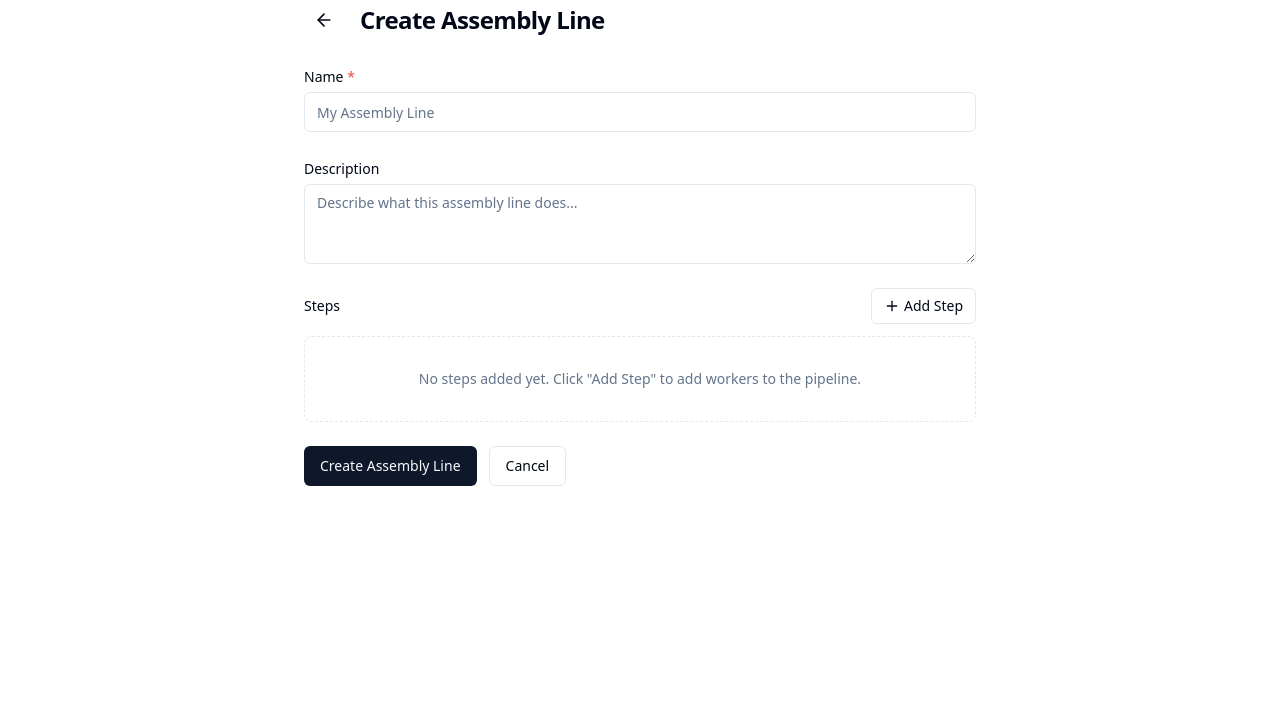
Test case: AssemblyLineCreatePage › Form validation › clears steps error when a step is added
Type "My Line" into the field labelled "Name *" at (640, 112), box top-left (304, 92), bottom-right (976, 132)
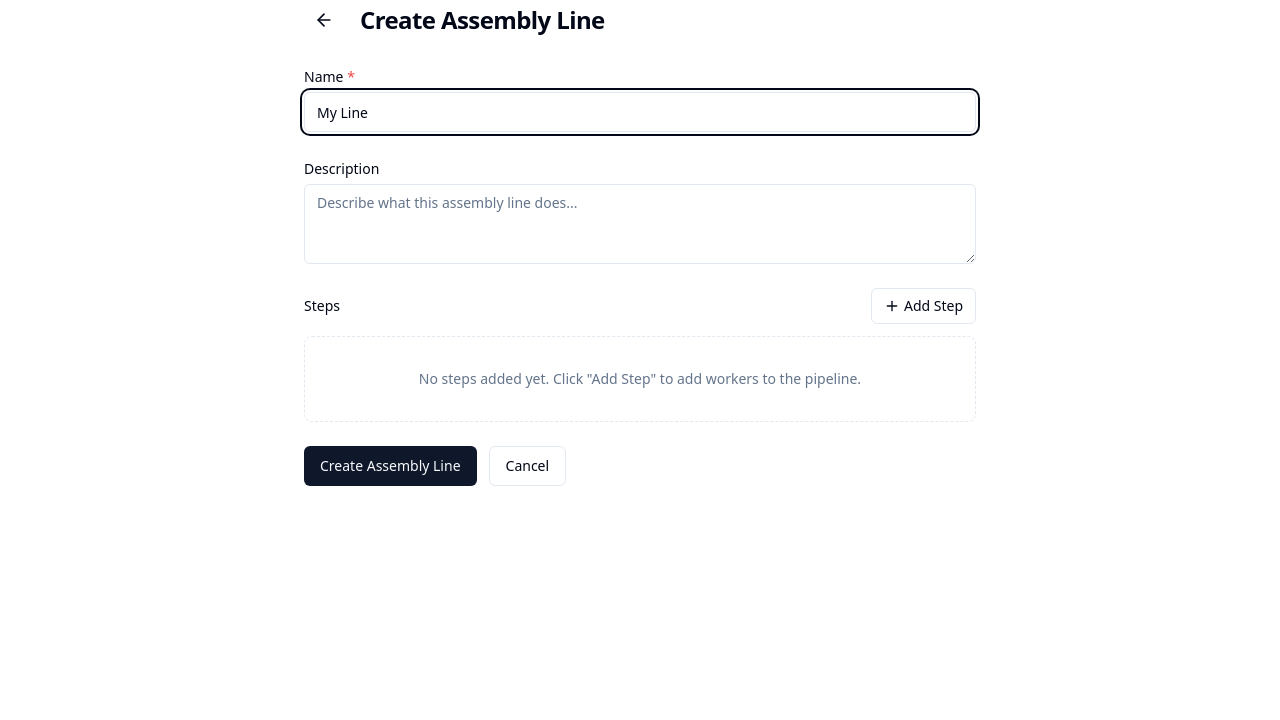
Click the button "Create Assembly Line" at (390, 466), box top-left (304, 446), bottom-right (476, 486)
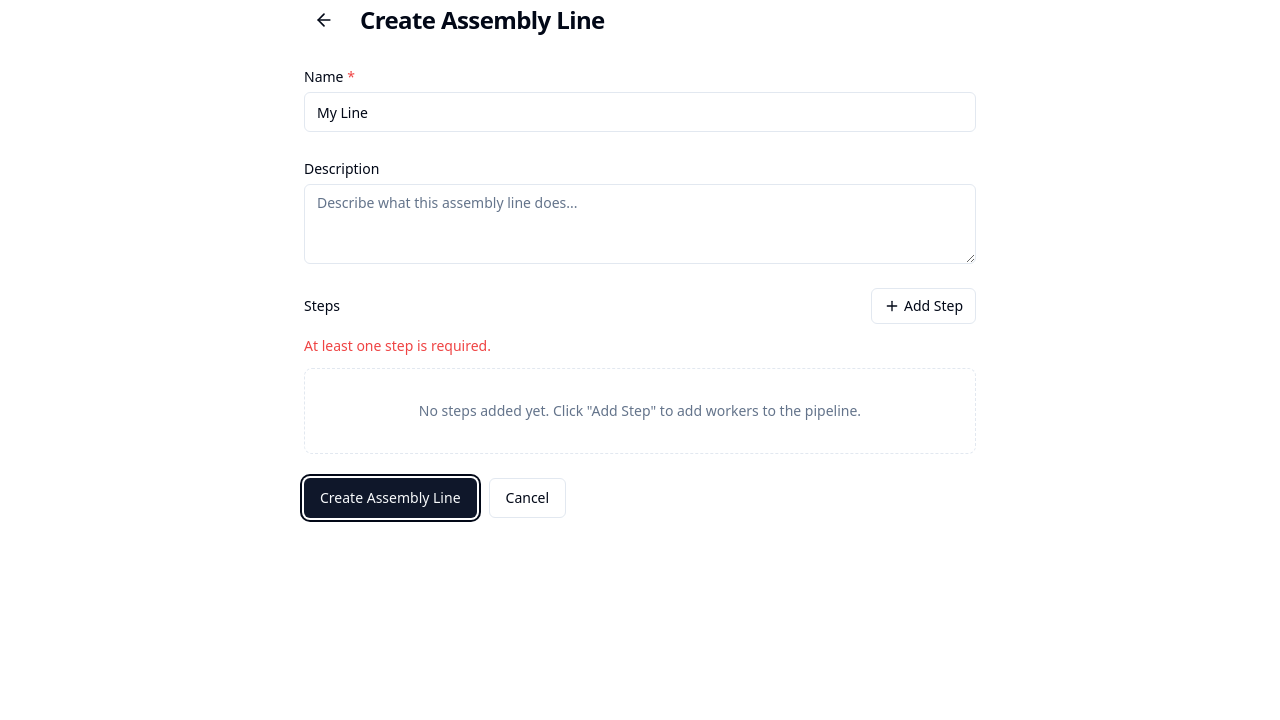
Expected: the text "At least one step is required." is shown, top-left (304, 336), bottom-right (491, 355)
Click the button "Add Step" at (923, 306), box top-left (871, 288), bottom-right (976, 324)
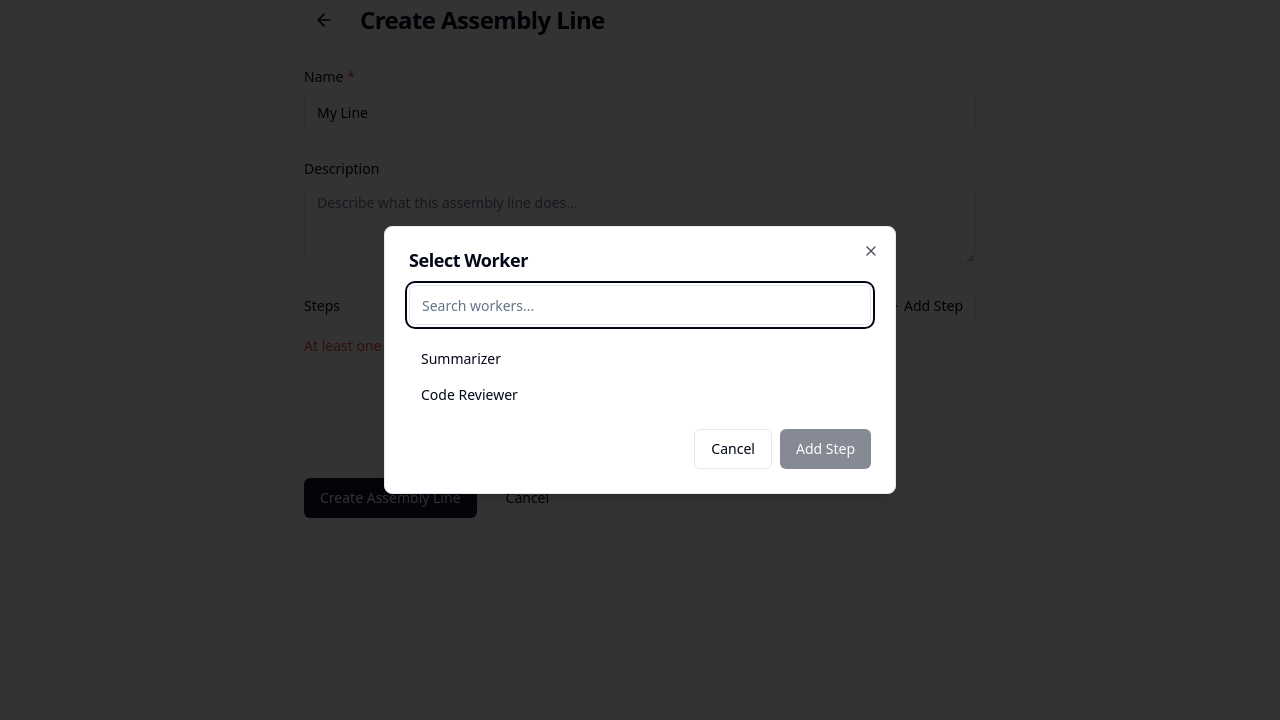
Click the button "Summarizer" at (461, 358), box top-left (409, 341), bottom-right (871, 377)
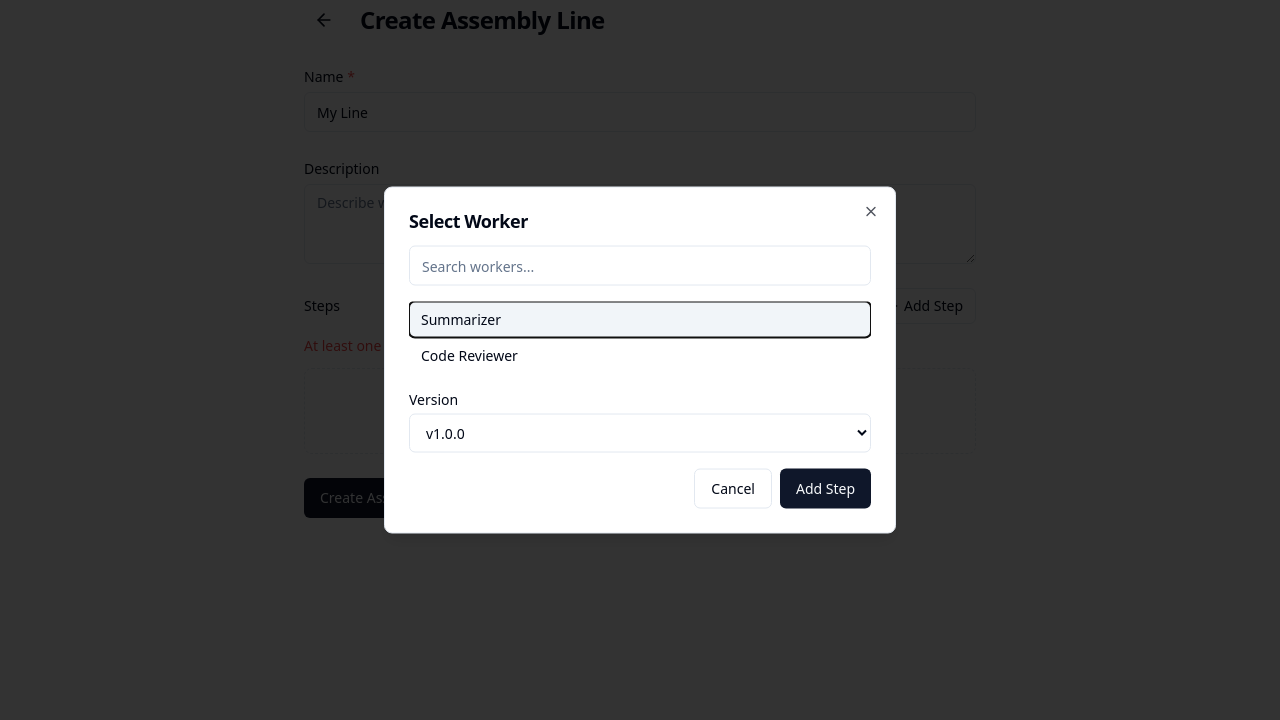
Click the button "Add Step" at (825, 488), box top-left (780, 468), bottom-right (871, 508)
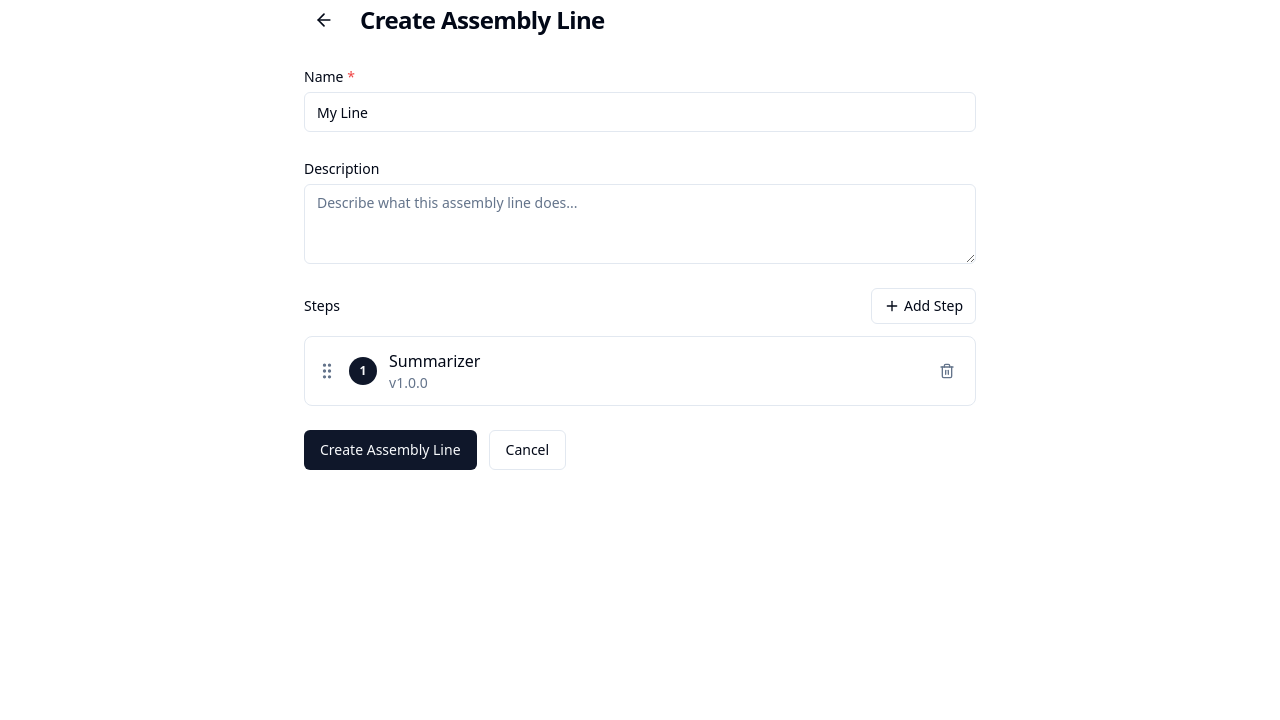
Expected: the text "At least one step is required." is gone
